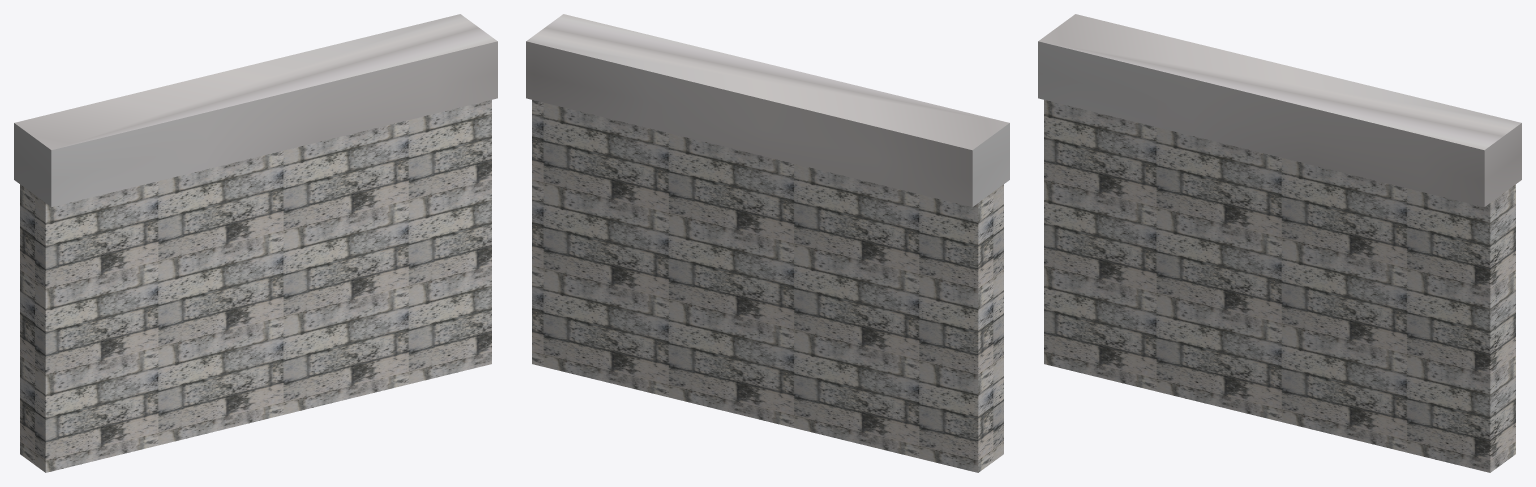
File: Wall.fbx
The picture shows the model from 3 angles, left to right: view 1: azimuth 30°, elevation 25°; view 2: azimuth 150°, elevation 25°; view 3: azimuth 330°, elevation 25°; orthographic projection.
Parts seen in each view (by area): view 1: pCube1; view 2: pCube1; view 3: pCube1.
Boxes of the visible parts, left/top/right/bottom form: pCube1: left=14, top=14, right=497, bottom=472; pCube1: left=526, top=14, right=1009, bottom=472; pCube1: left=1038, top=14, right=1521, bottom=472.
Bounding box in the file's own units: 10 × 7 × 1.45.
